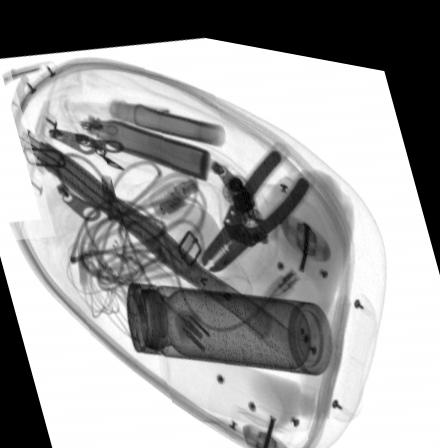Pliers: (198, 139, 311, 267)
